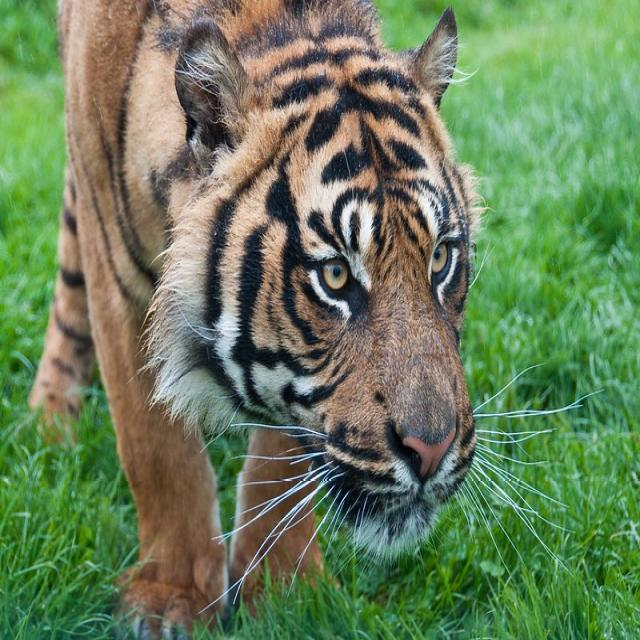Tiger: (29, 1, 501, 632)
